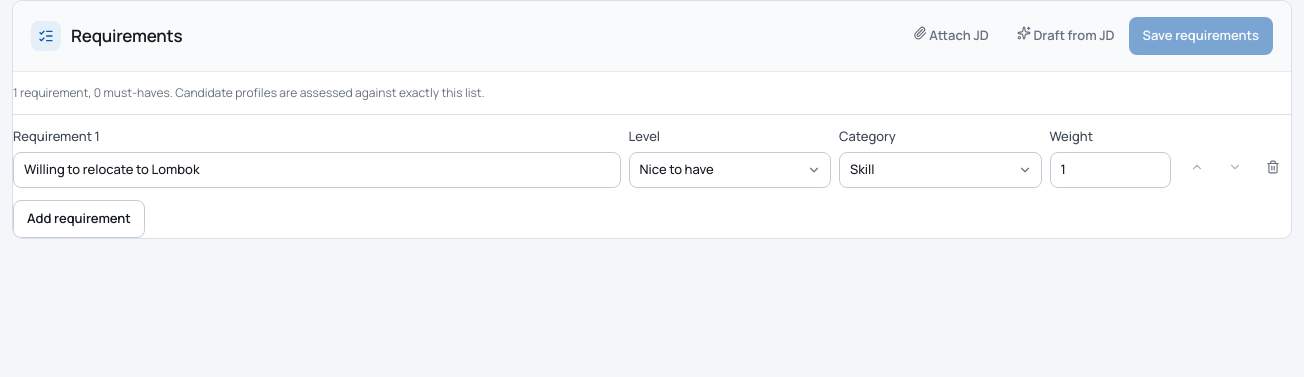
Test: JobRequirementsPanel › keeps the recruiter’s own requirements when a draft is merged in
This screenshot has width=1304, height=377.
Expected: the field showing "Willing to relocate to Lombok" is shown, [13,152,620,188]
Click the button "Draft from JD".
click(1066, 36)  # box [1003,17,1129,54]
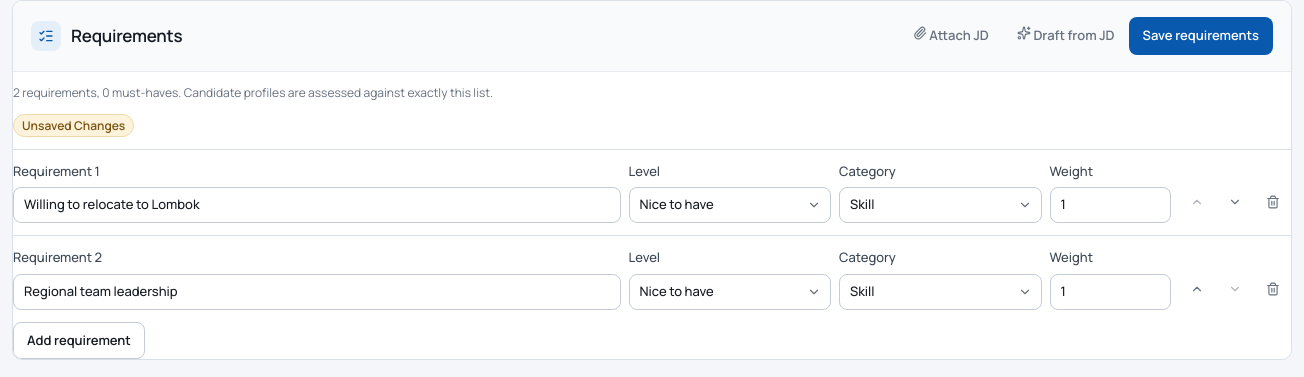
Expected: the field showing "Willing to relocate to Lombok" is shown, [13,187,620,223]
Result: the field showing "Regional team leadership" is shown at [13,274,620,310]
